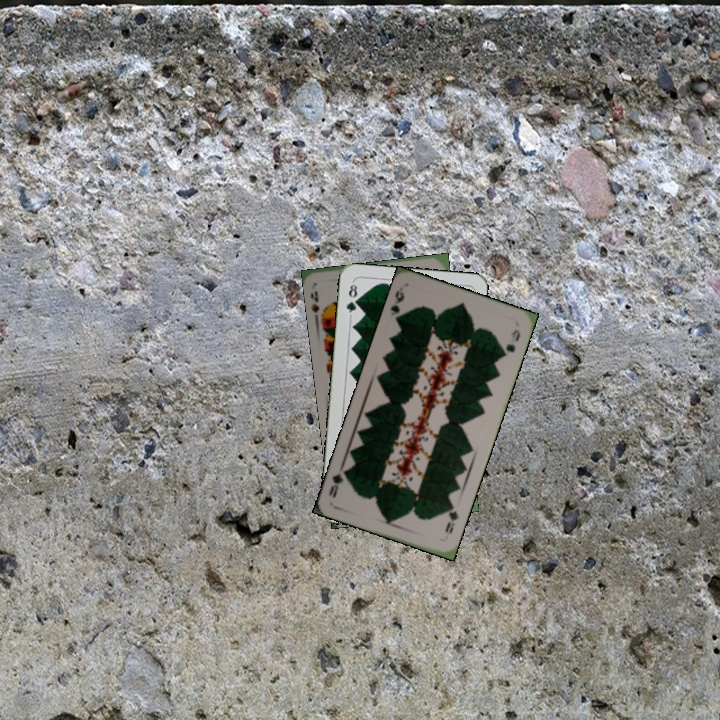G8: (342, 278, 360, 319)
G9: (386, 287, 407, 324), (441, 500, 462, 536)
S9: (307, 287, 329, 324)
